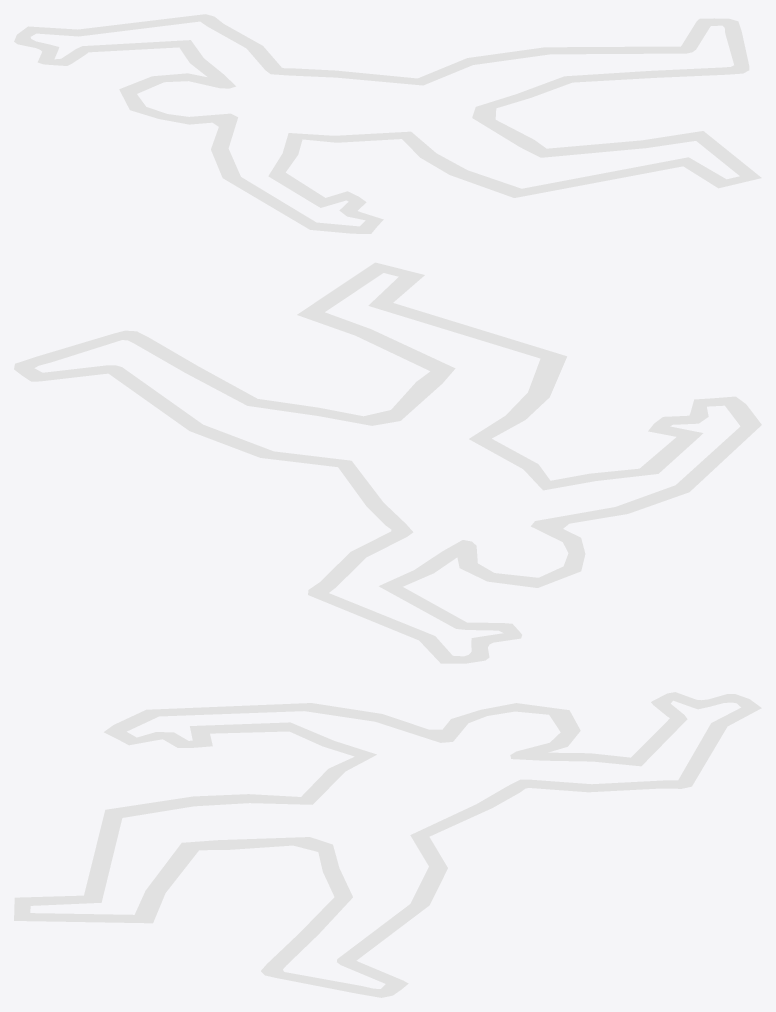
Rendered from SM_Chalk_Outline_01.gltf.
3 renders of one model, top to bottom at view 1: azimuth 30°, elevation 25°; view 2: azimuth 150°, elevation 25°; view 3: azimuth 270°, elevation 25°, orthographic. The views are drawn at different scales.
Visible parts, largest first — view 1: SM_Chalk_Outline_01; view 2: SM_Chalk_Outline_01; view 3: SM_Chalk_Outline_01.
Boxes of the visible parts, left/top/right/bottom form: SM_Chalk_Outline_01: left=14, top=14, right=761, bottom=233; SM_Chalk_Outline_01: left=14, top=262, right=761, bottom=663; SM_Chalk_Outline_01: left=14, top=692, right=761, bottom=997.
Bounding box in the file's own units: 1.48 × 4.84e-09 × 1.53.
1 material, 1 textured.
